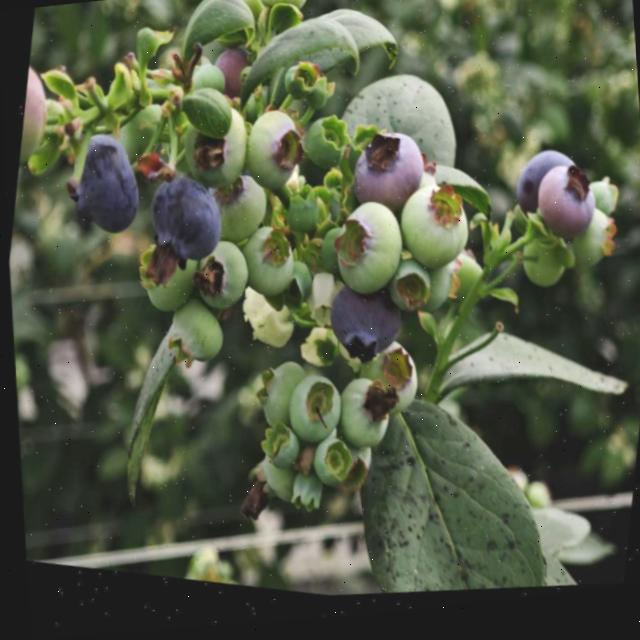RipeBlueBerry: (60, 134, 149, 255), (136, 176, 228, 283), (318, 286, 403, 382)
Semi-RipeBlueBerry: (345, 131, 428, 227), (526, 166, 600, 253)
UnripeBlueBerry: (324, 201, 408, 312), (388, 187, 474, 291)
